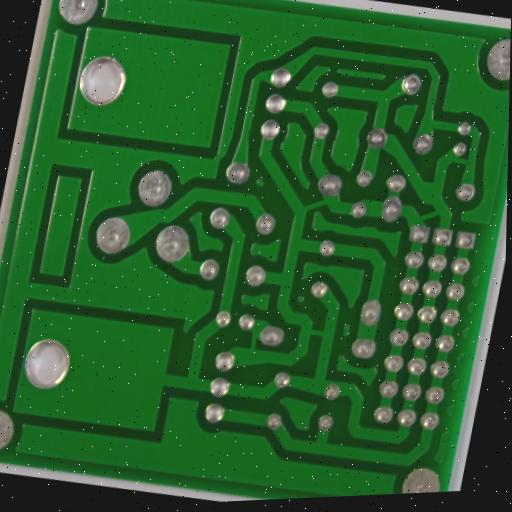short_circuit: (284, 176, 346, 227), (296, 313, 339, 352), (409, 196, 449, 233), (237, 318, 271, 361), (444, 143, 475, 173)
